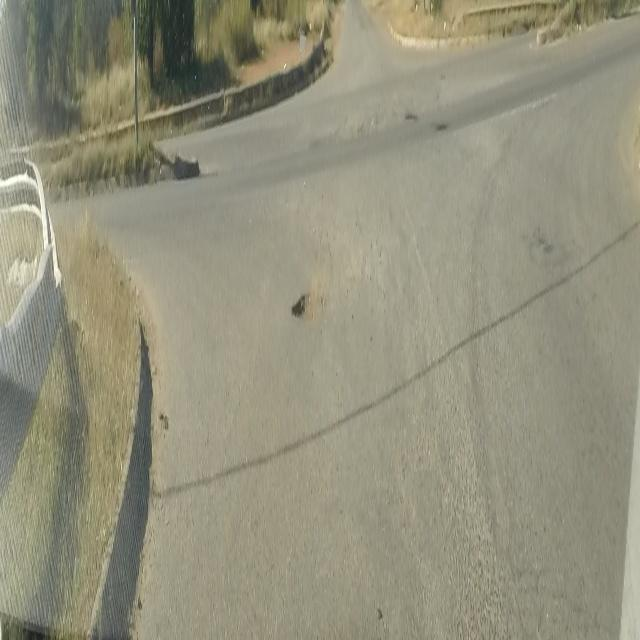pothole: (290, 284, 323, 326)
